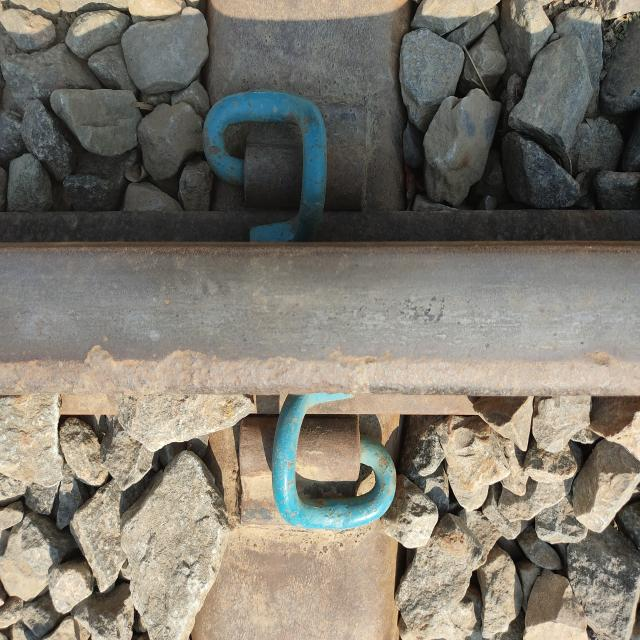non-defective: (154, 82, 491, 542)
